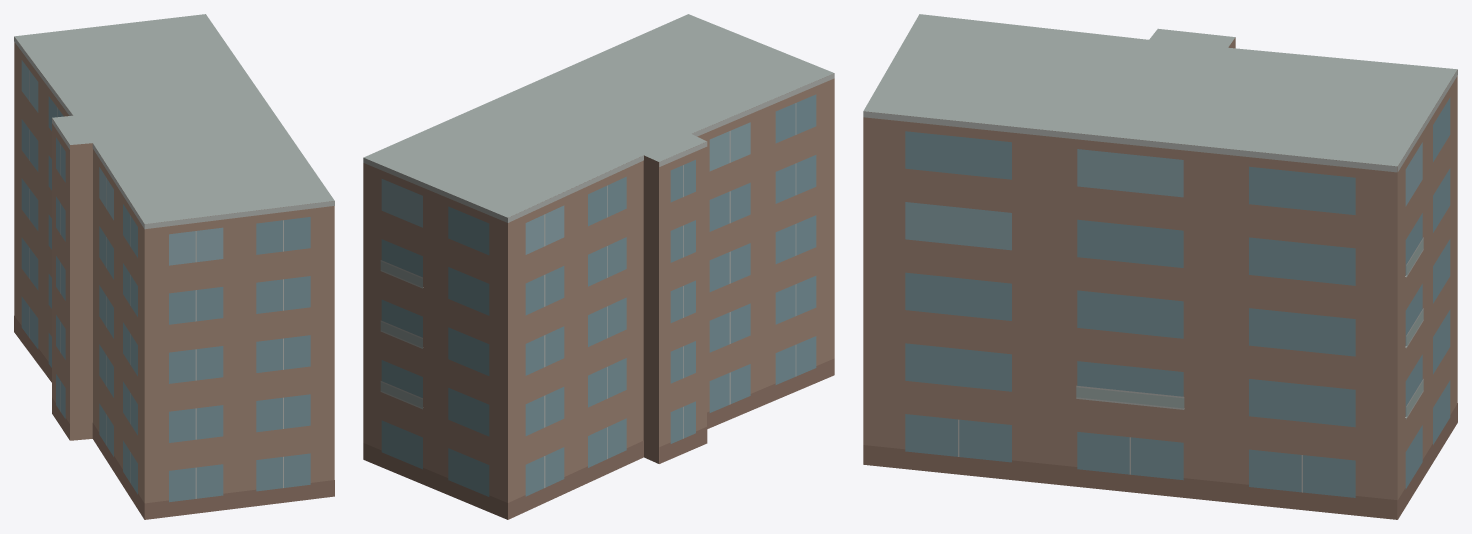
File: survey-upis-32758271.glb
3 renders of one model, left to right at view 1: azimuth 30°, elevation 25°; view 2: azimuth 150°, elevation 25°; view 3: azimuth 270°, elevation 25°, orthographic. The views are drawn at different scales.
Parts seen in each view (by area): view 1: survey-upis-32758271.tmp; view 2: survey-upis-32758271.tmp; view 3: survey-upis-32758271.tmp.
Boxes of the visible parts, bbox=[...] form: survey-upis-32758271.tmp: bbox=[14, 14, 334, 519]; survey-upis-32758271.tmp: bbox=[363, 14, 834, 519]; survey-upis-32758271.tmp: bbox=[863, 14, 1457, 519].
Bounding box in the file's own units: 13.14 × 14.2 × 21.65.
